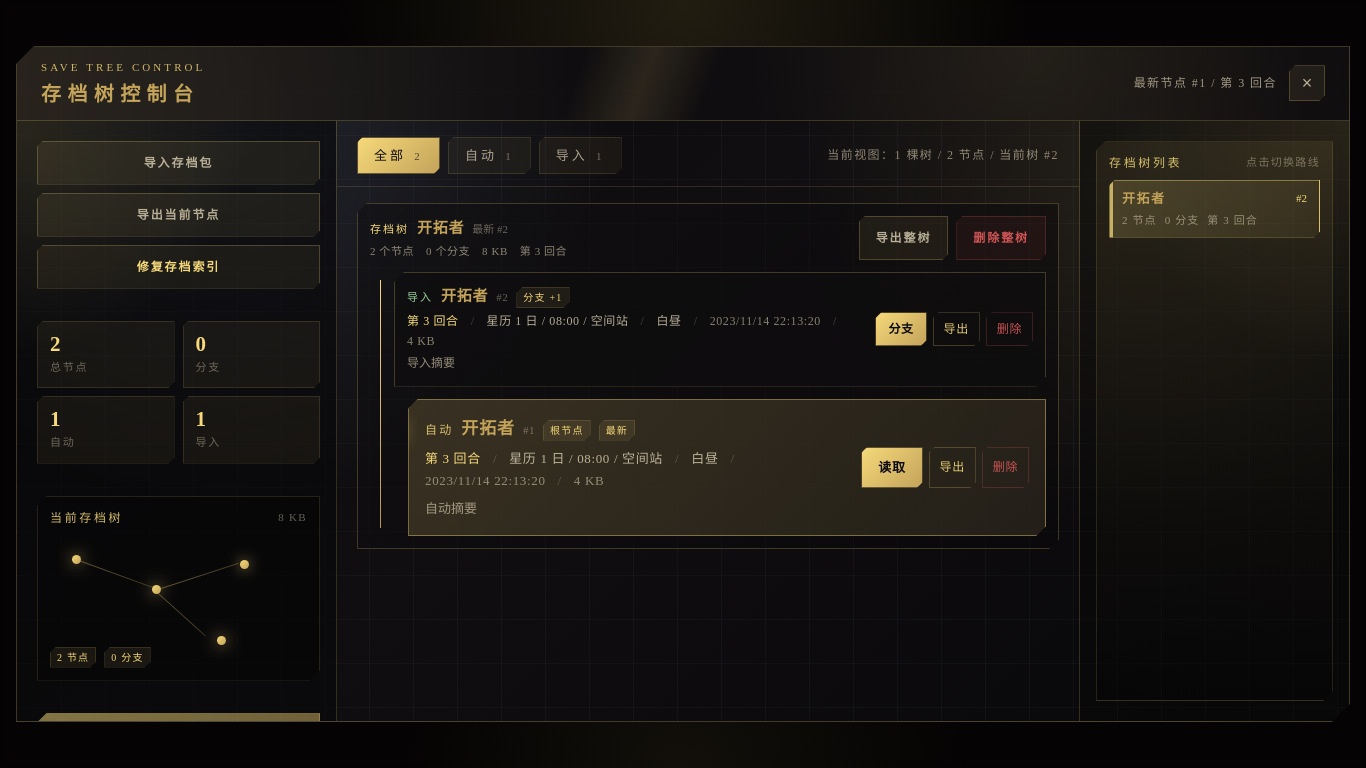
Test: 过滤语义（4b：两变体各自保留） › 模态按节点过滤：自动维度隐藏同树导入节点
The image size is (1366, 768).
Expected: the text "自动摘要" is shown, x1=425 y1=501 x2=477 y2=516
Click the button "自动1".
click(489, 155)  # box x1=448 y1=137 x2=531 y2=174
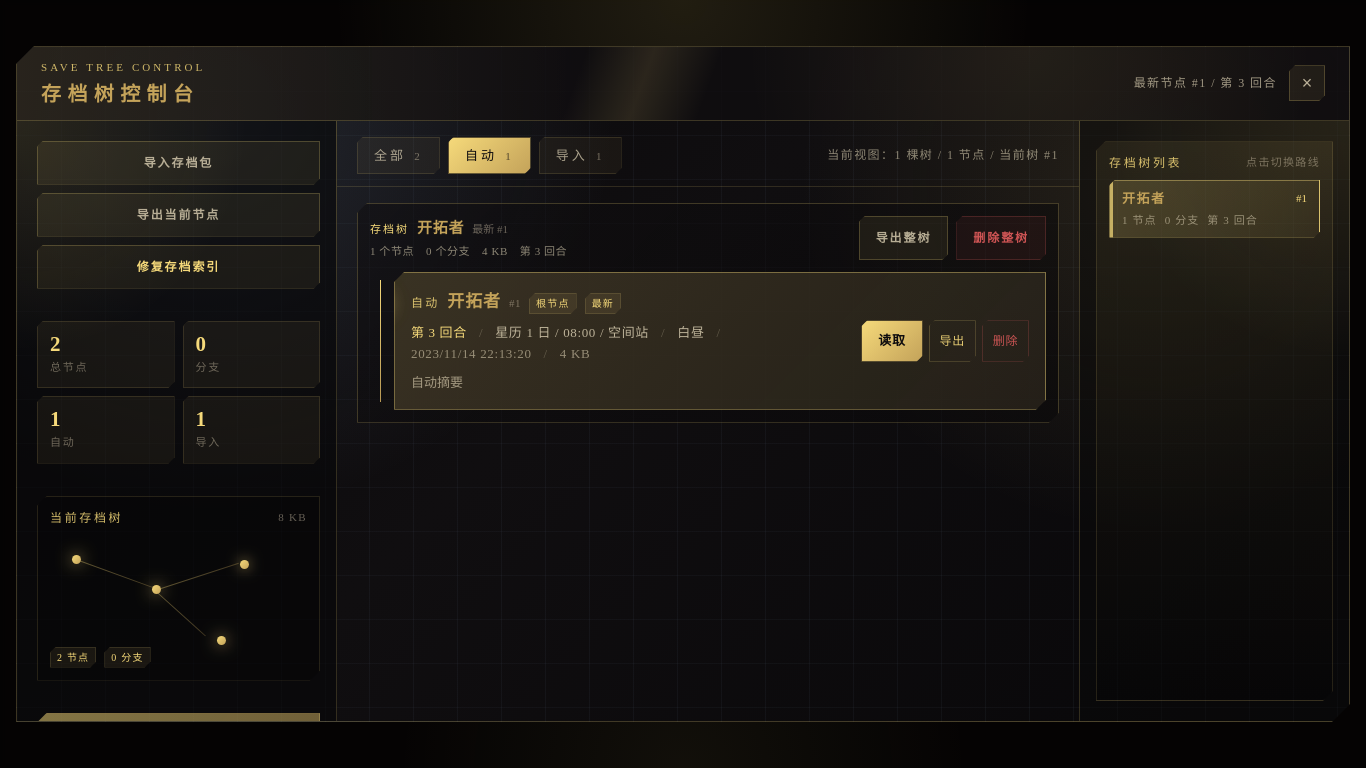
Expected: the text "自动摘要" is shown, x1=411 y1=375 x2=463 y2=390
Expected: the text "导入摘要" is gone
